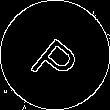P_NE: (25, 24, 85, 86)
